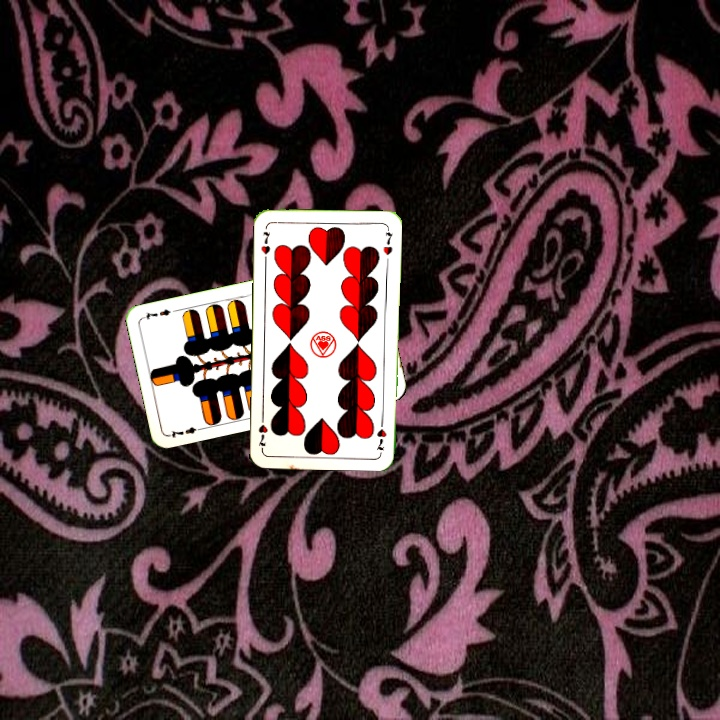E7: (166, 423, 206, 441)
H7: (257, 227, 273, 264), (374, 414, 388, 453)
